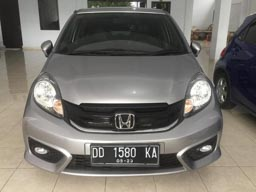plat: (91, 145, 158, 158)
